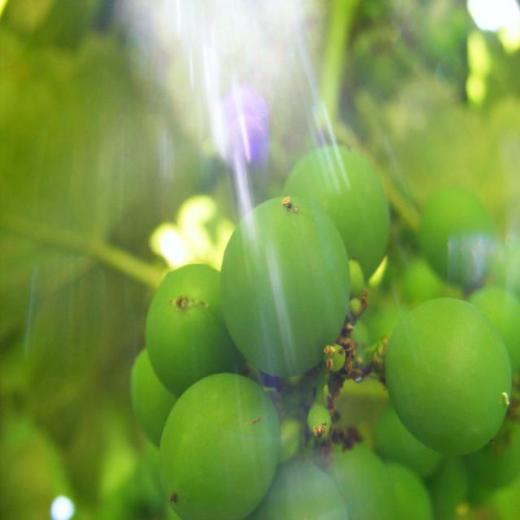Orange: (130, 143, 520, 520)
